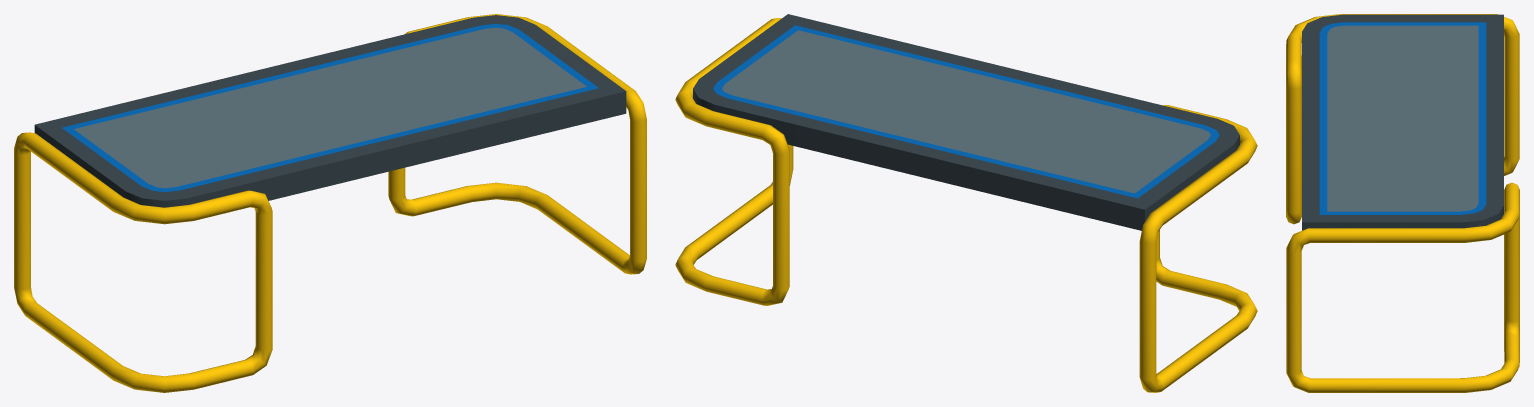
File: Desk_006.fbx
3 views of the same model, side by side, from view 1: azimuth 30°, elevation 25°; view 2: azimuth 150°, elevation 25°; view 3: azimuth 270°, elevation 25° (orthographic). The views are drawn at different scales.
Visible parts, largest first — view 1: Desk_006; view 2: Desk_006; view 3: Desk_006.
Part boxes in pixels (x1,y1,x2,y2): Desk_006: [14, 14, 646, 392]; Desk_006: [675, 14, 1257, 392]; Desk_006: [1286, 14, 1519, 392].
Bounding box in the file's own units: 252 × 113 × 88.92.
